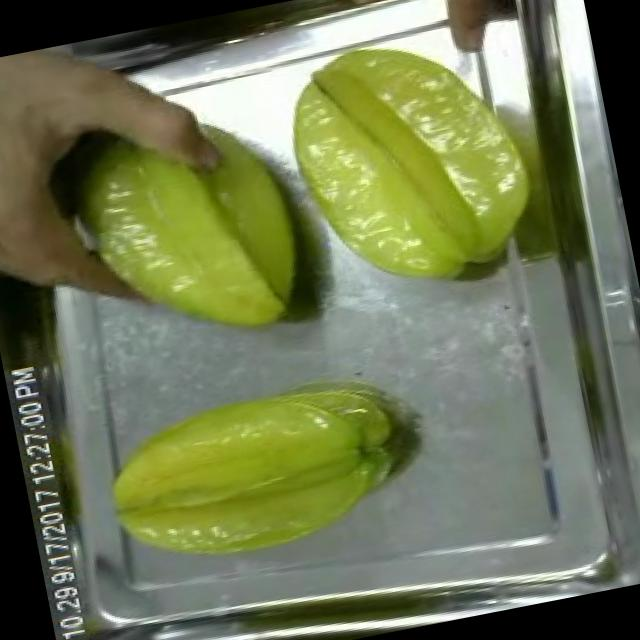fruit: (266, 8, 561, 320), (86, 356, 432, 591), (56, 97, 326, 371), (0, 36, 148, 298)
